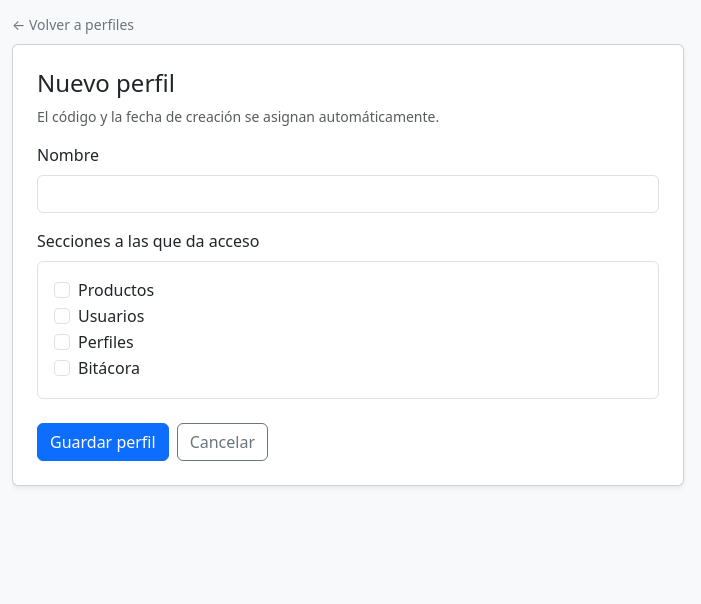
Test case: ProfileFormComponent › alta (/perfiles/nuevo) › con 409 (mismo nombre guardado al mismo tiempo) marca el nombre como repetido
In the field with id "name": (348, 194) [37,175,659,213], type "Supervisor"
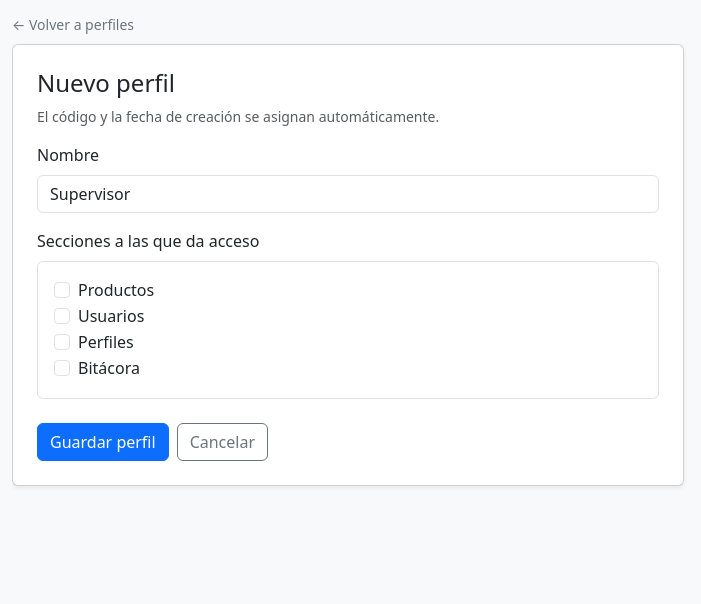
Click the checkbox labelled "Productos": (62, 290) [54,282,70,298]
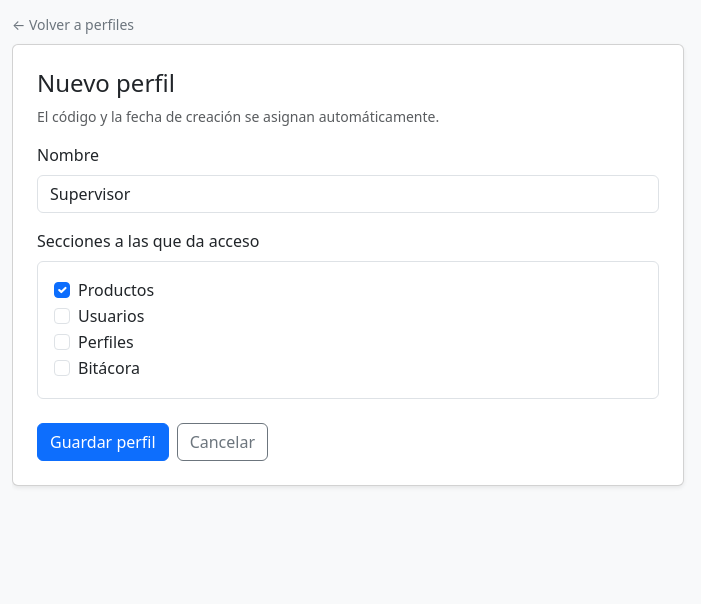
Submit the form, box [37,143,659,461]
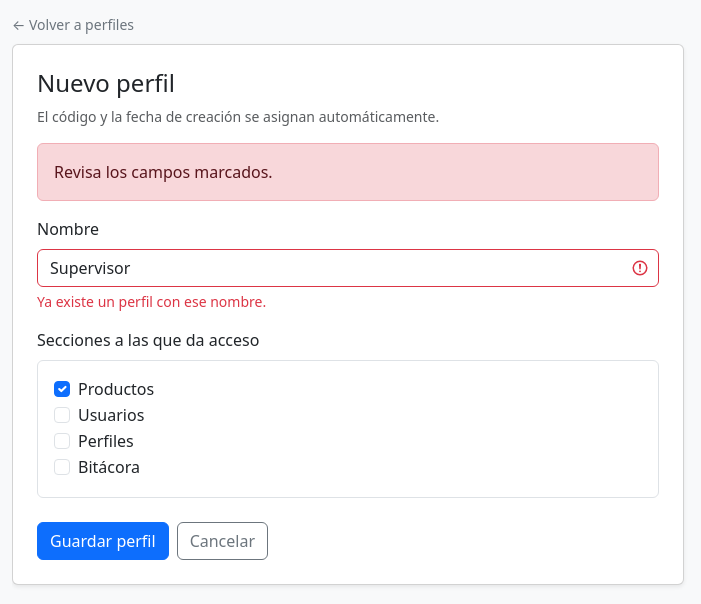
Expected: the text "Ya existe un perfil con ese nombre." is shown, [37,292,266,311]
